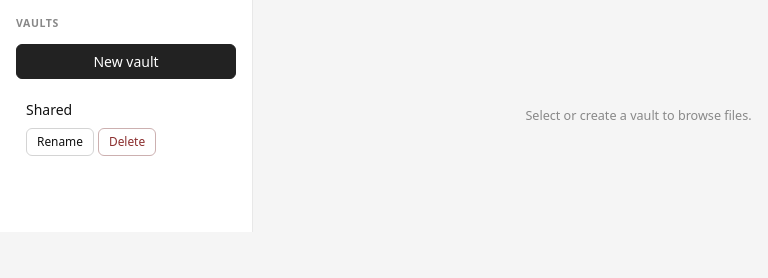
Test case: FileManager refresh identity › surfaces the SDK nonempty-vault refusal without refreshing or removing the vault
Click the button with test id "delete-vault": click(127, 142) [98, 128, 156, 156]
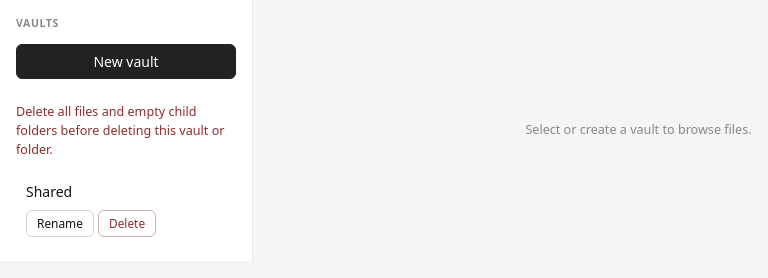
expect the button "Shared" is shown: met, box [16, 173, 236, 210]
expect the text with test id "vault-list-error" reads "Delete all files and empty child folders before deleting this vault or folder.": met, box [16, 103, 224, 158]
